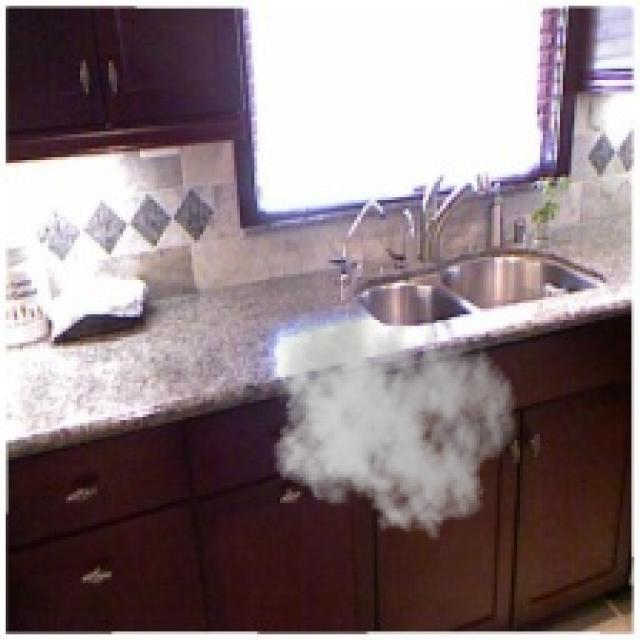Smoke: (266, 300, 518, 540)
